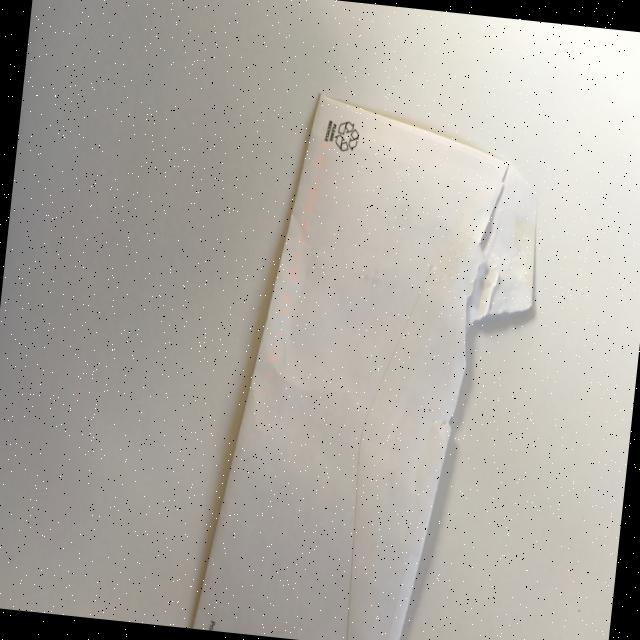paper: (190, 84, 551, 640)
